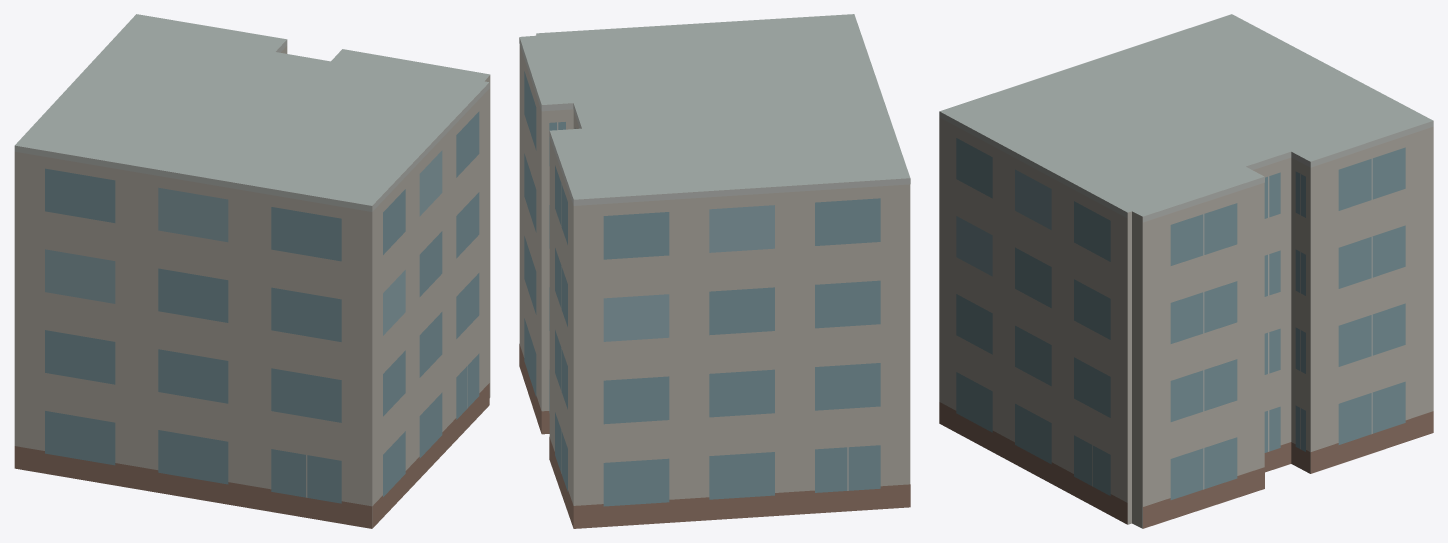
Rendered from survey-upis-33046822.glb.
3 renders of one model, left to right at view 1: azimuth 30°, elevation 25°; view 2: azimuth 150°, elevation 25°; view 3: azimuth 270°, elevation 25°, orthographic. The views are drawn at different scales.
Visible parts, largest first — view 1: survey-upis-33046822.tmp; view 2: survey-upis-33046822.tmp; view 3: survey-upis-33046822.tmp.
Boxes of the visible parts, x1,y1,x2,y2 form: survey-upis-33046822.tmp: [14, 14, 490, 528]; survey-upis-33046822.tmp: [519, 14, 910, 528]; survey-upis-33046822.tmp: [939, 14, 1433, 528].
Bounding box in the file's own units: 18.04 × 12.95 × 18.59.
